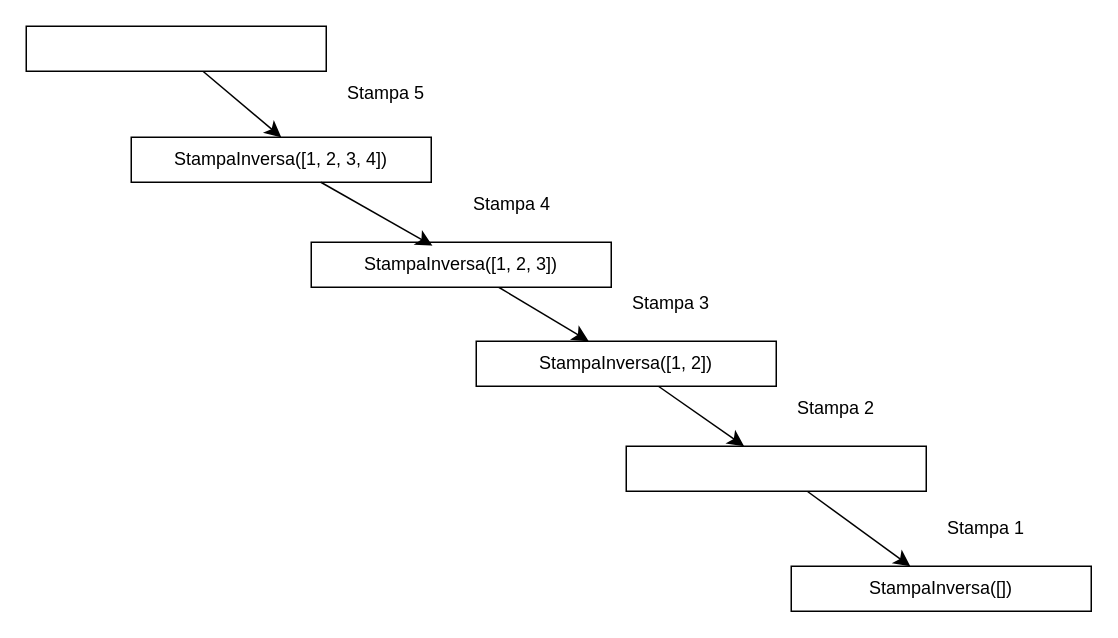
The diagram is 1118 pixels wide and 638 high, and some of its shapes have lost their labels. Each missing label, with the centre of its shape:
"StampaInversa([1, 2, 3, 4, 5])" goes at pixel 175 48.
"StampaInversa([1])" goes at pixel 775 468.
